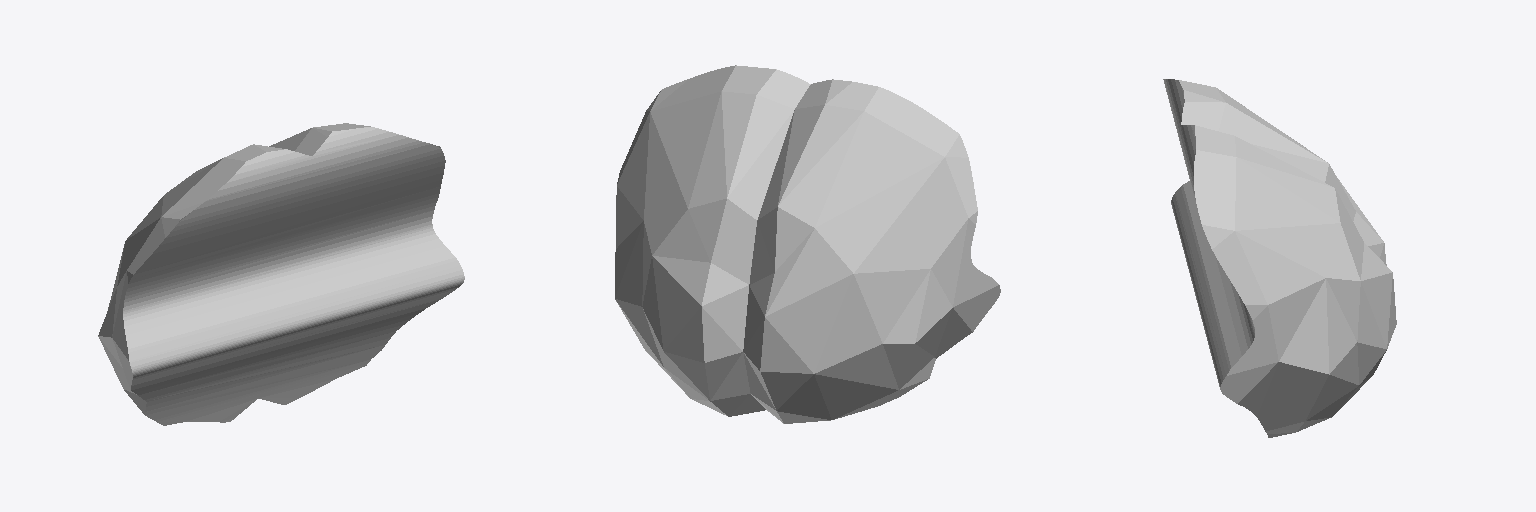
Rendered from FrontalLob.obj.
3 views of the same model, side by side, from view 1: azimuth 30°, elevation 25°; view 2: azimuth 150°, elevation 25°; view 3: azimuth 270°, elevation 25° (orthographic).
Visible parts, largest first — view 1: Assem1.001; view 2: Assem1.001; view 3: Assem1.001.
Part boxes in pixels (bbox=[...]): Assem1.001: bbox=[98, 123, 464, 425]; Assem1.001: bbox=[615, 65, 1000, 423]; Assem1.001: bbox=[1163, 79, 1396, 437].
Bounding box in the file's own units: 4.38 × 3.46 × 2.47.